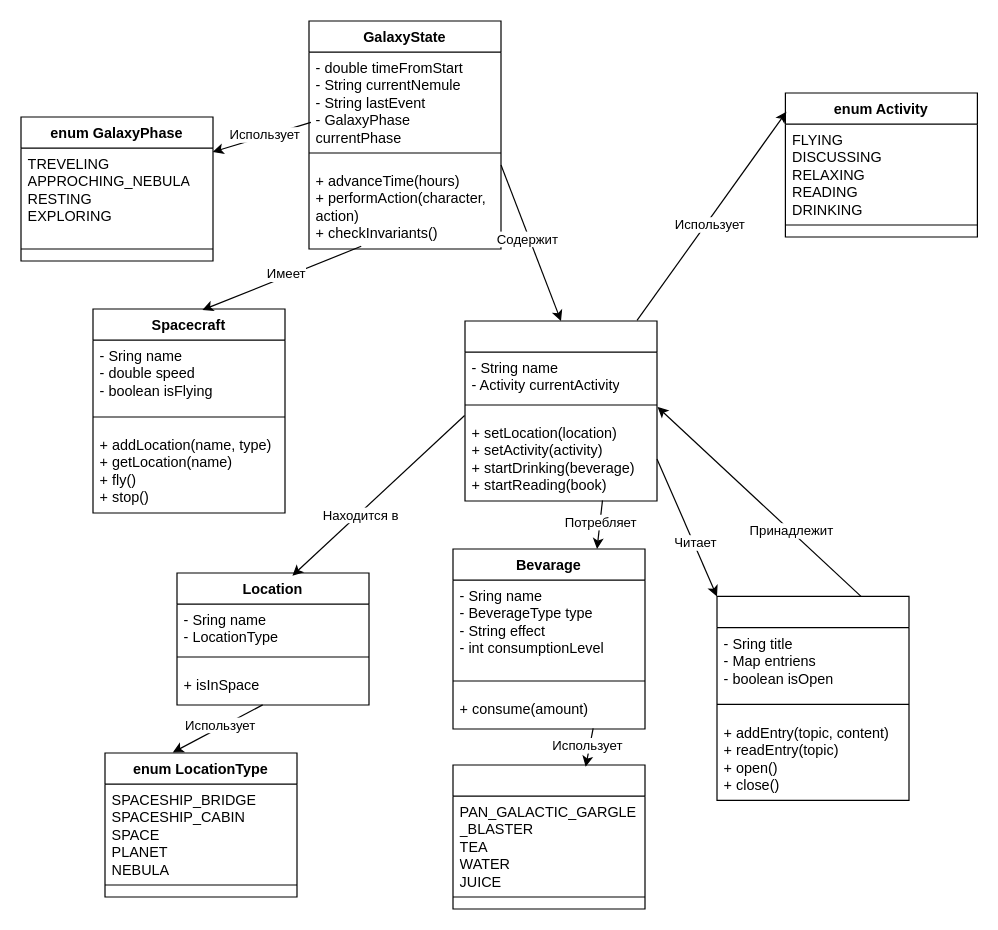
Image size: 998x930. Some labels were removed from this diagram. Here are the shapes that lost their labels. From the top down, the box of each, then its label:
(464, 320, 657, 501): Character
(716, 595, 909, 800): GuildBook
(452, 764, 645, 909): enum BeverageType
